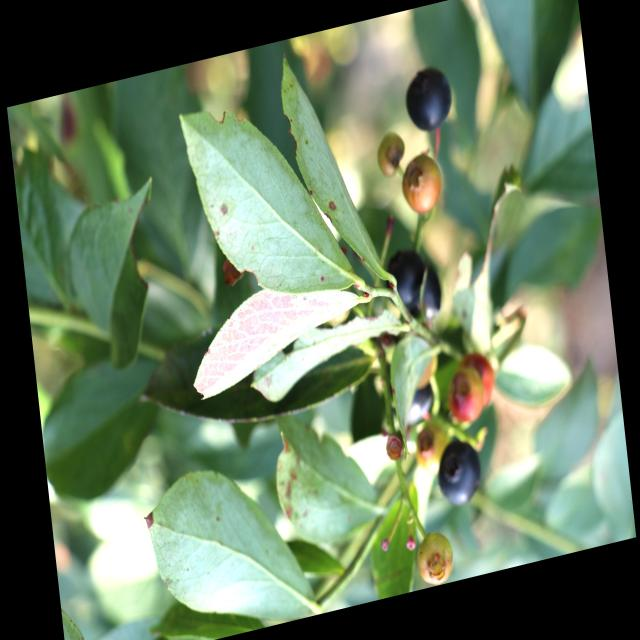blueberry: (386, 246, 442, 327), (402, 61, 454, 135), (438, 438, 484, 508), (395, 380, 435, 425)
blueberry-halfripe: (396, 148, 445, 220), (414, 527, 456, 589), (449, 369, 486, 425), (468, 347, 499, 404), (376, 132, 409, 175)
